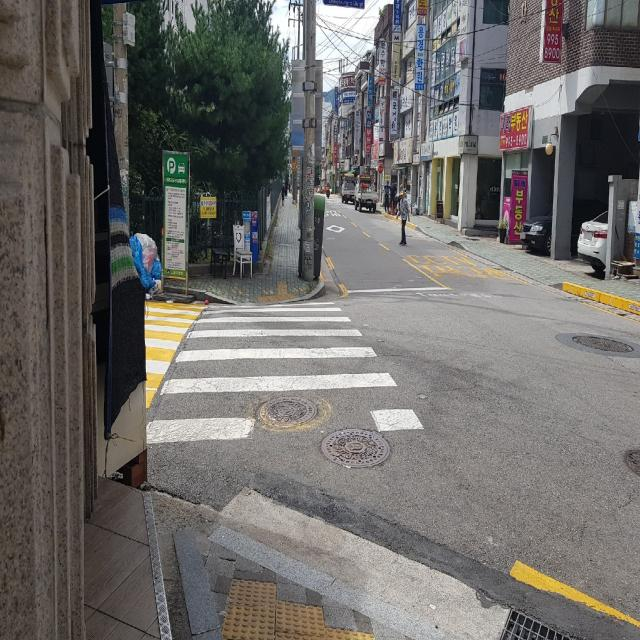횡단보도: (146, 300, 426, 446)
